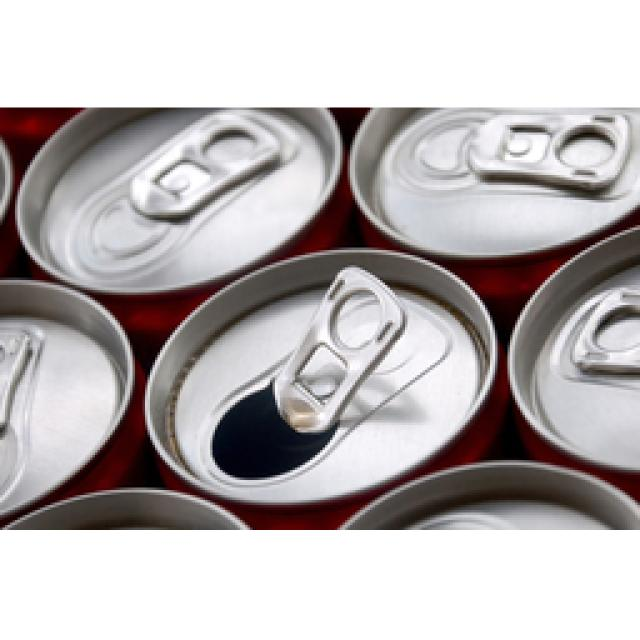aluminum_soda_cans: (157, 228, 495, 497)
